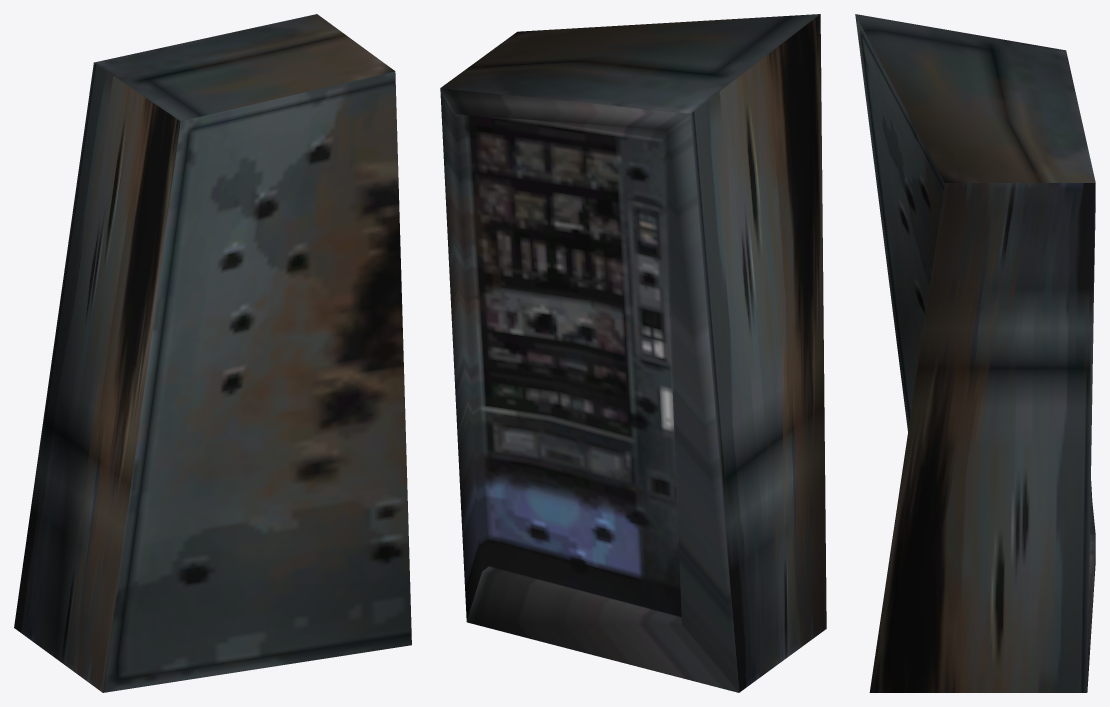
File: USA - Prop - Asian Vending Machine - Damaged - PAVending_d.glb
3 renders of one model, left to right at view 1: azimuth 30°, elevation 25°; view 2: azimuth 150°, elevation 25°; view 3: azimuth 270°, elevation 25°, orthographic. The views are drawn at different scales.
Visible parts, largest first — view 1: PAVENDING_D; view 2: PAVENDING_D; view 3: PAVENDING_D.
Part boxes in pixels (bbox=[...]): PAVENDING_D: bbox=[14, 14, 411, 692]; PAVENDING_D: bbox=[440, 14, 826, 692]; PAVENDING_D: bbox=[855, 14, 1095, 692].
Size of the model in its own units: 7.51 by 13.9 by 5.35.
Materials: 1 (1 with a texture image).
